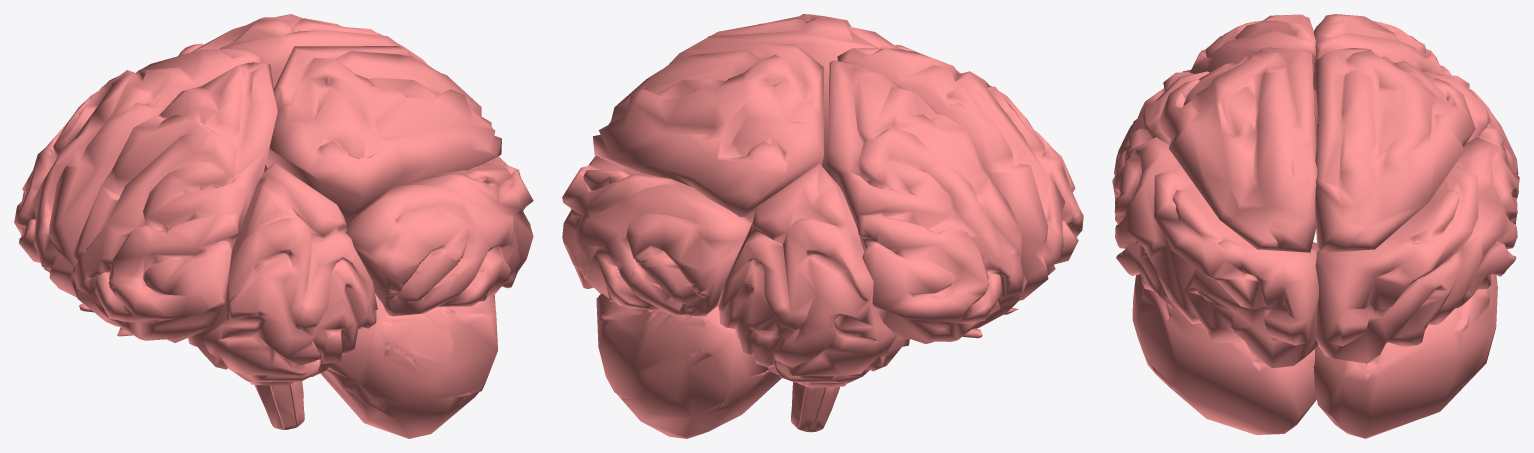
3 renders of one model, left to right at view 1: azimuth 30°, elevation 25°; view 2: azimuth 150°, elevation 25°; view 3: azimuth 270°, elevation 25°, orthographic. The views are drawn at different scales.
Parts seen in each view (by area): view 1: Cylinder01; view 2: Cylinder01; view 3: Cylinder01.
Boxes of the visible parts, left/top/right/bottom form: Cylinder01: left=14, top=14, right=533, bottom=438; Cylinder01: left=562, top=14, right=1083, bottom=438; Cylinder01: left=1112, top=14, right=1519, bottom=438.
Bounding box in the file's own units: 1357 × 1150 × 1228.
